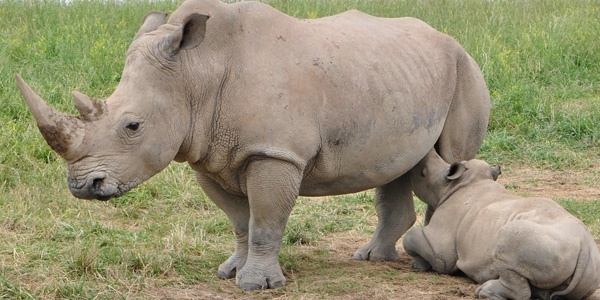rhino: (17, 1, 489, 291), (403, 145, 598, 300)
